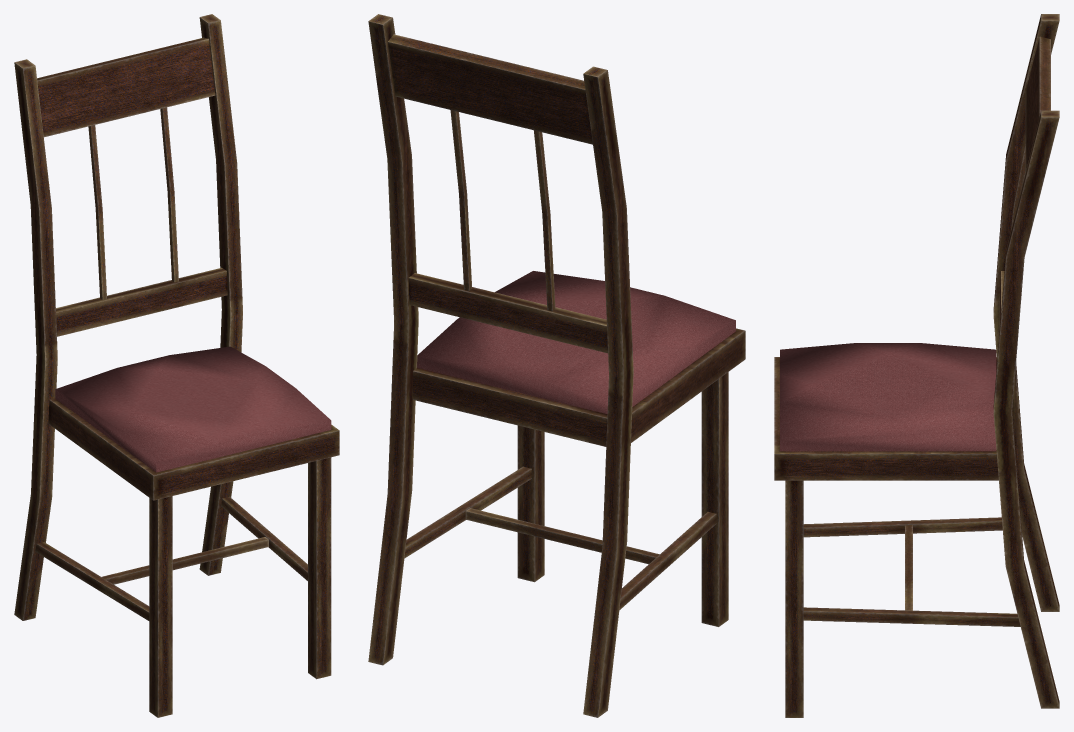
File: isu.fbx
The picture shows the model from 3 angles, left to right: view 1: azimuth 30°, elevation 25°; view 2: azimuth 150°, elevation 25°; view 3: azimuth 270°, elevation 25°; orthographic projection. The views are drawn at different scales.
Visible parts, largest first — view 1: pCube21; view 2: pCube21; view 3: pCube21.
Part boxes in pixels (x1,y1,x2,y2): pCube21: (14,14,339,717); pCube21: (368,14,745,717); pCube21: (774,14,1059,717).
Size of the model in its own units: 3.37 by 9.19 by 3.93.
